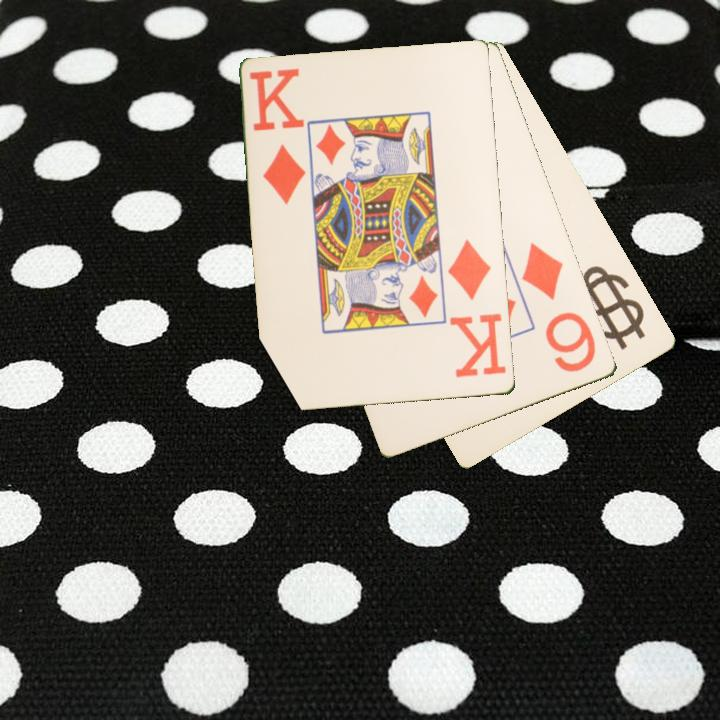6d: (518, 238, 600, 376)
JK: (584, 268, 643, 337)
Kd: (445, 237, 509, 381), (246, 65, 309, 208)
